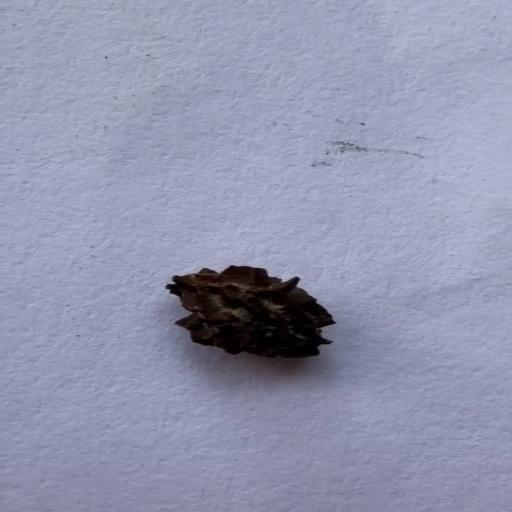papaya_seed: (154, 261, 340, 367)
